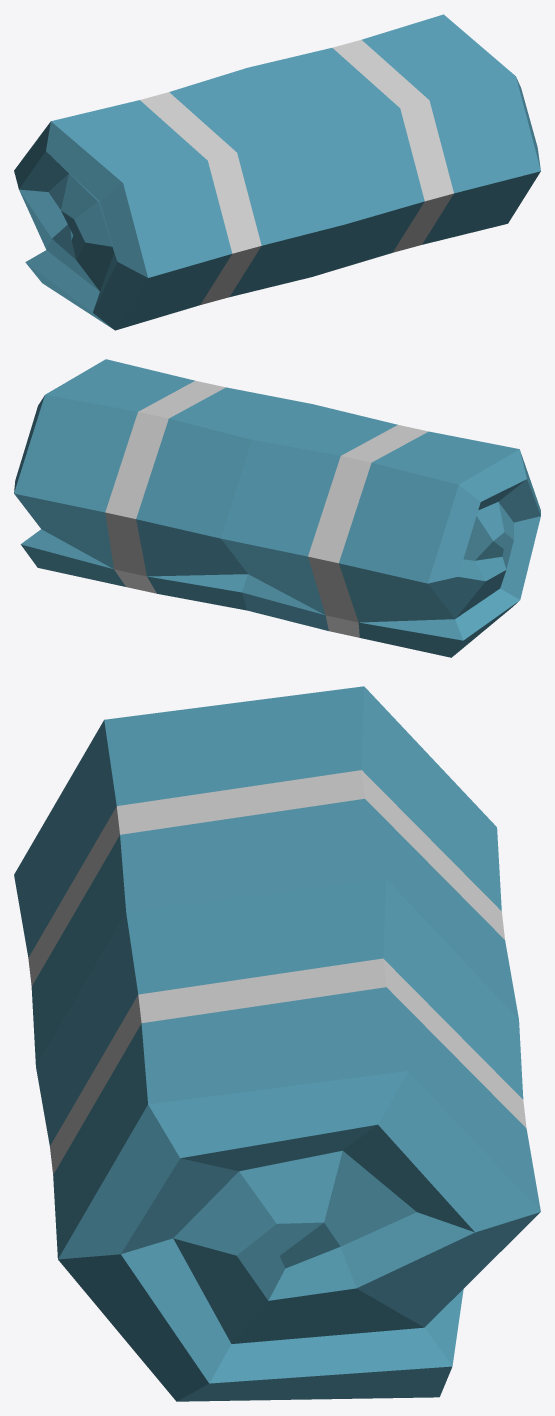
Rendered from Towel_2.fbx.
3 renders of one model, top to bottom at view 1: azimuth 30°, elevation 25°; view 2: azimuth 150°, elevation 25°; view 3: azimuth 270°, elevation 25°, orthographic. The views are drawn at different scales.
Parts seen in each view (by area): view 1: sleeping-bag1; view 2: sleeping-bag1; view 3: sleeping-bag1.
Boxes of the visible parts, box(x1,y1,x2,y2) form: sleeping-bag1: box(14, 14, 540, 330); sleeping-bag1: box(14, 359, 540, 657); sleeping-bag1: box(14, 686, 540, 1401).
Size of the model in its own units: 0.5285 by 0.1926 by 0.2811.
